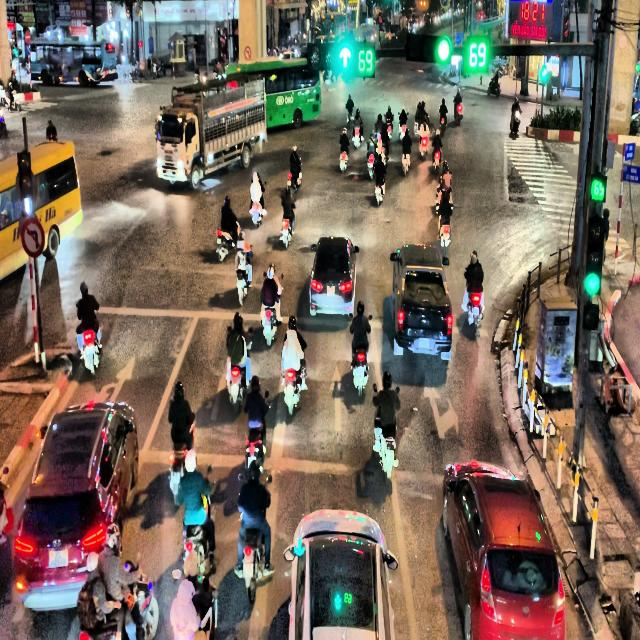lisence_plate: (47, 546, 69, 569), (418, 337, 430, 351), (325, 287, 337, 298)
